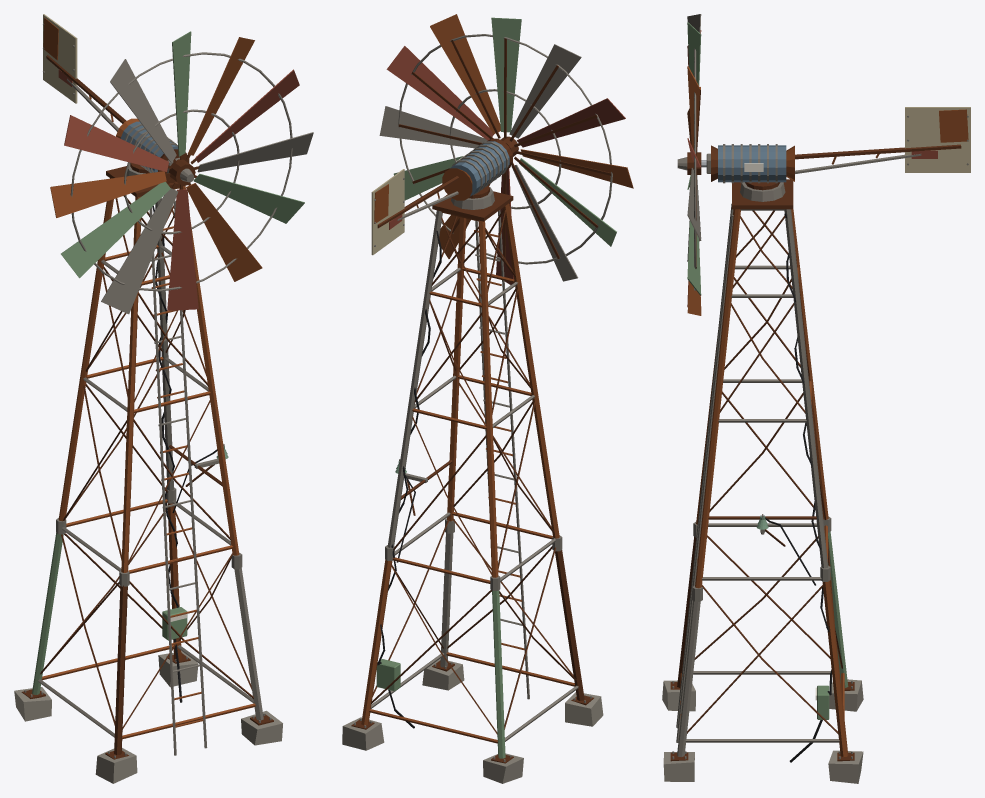
Rendered from windmill.glb.
3 renders of one model, left to right at view 1: azimuth 30°, elevation 25°; view 2: azimuth 150°, elevation 25°; view 3: azimuth 270°, elevation 25°, orthographic. The views are drawn at different scales.
Parts seen in each view (by area): view 1: windmill, windmill_rotor, windmill_head; view 2: windmill, windmill_rotor, windmill_head; view 3: windmill, windmill_head, windmill_rotor.
Boxes of the visible parts, box(x1,y1,x2,y2) form: windmill: box(14, 166, 282, 783); windmill_rotor: box(50, 31, 313, 314); windmill_head: box(43, 14, 189, 184); windmill: box(342, 191, 603, 783); windmill_rotor: box(379, 14, 633, 284); windmill_head: box(371, 138, 512, 255); windmill: box(662, 179, 863, 783); windmill_head: box(701, 107, 970, 201); windmill_rotor: box(677, 14, 701, 315).
Bounding box in the file's own units: 3.38 × 8.98 × 3.52.
